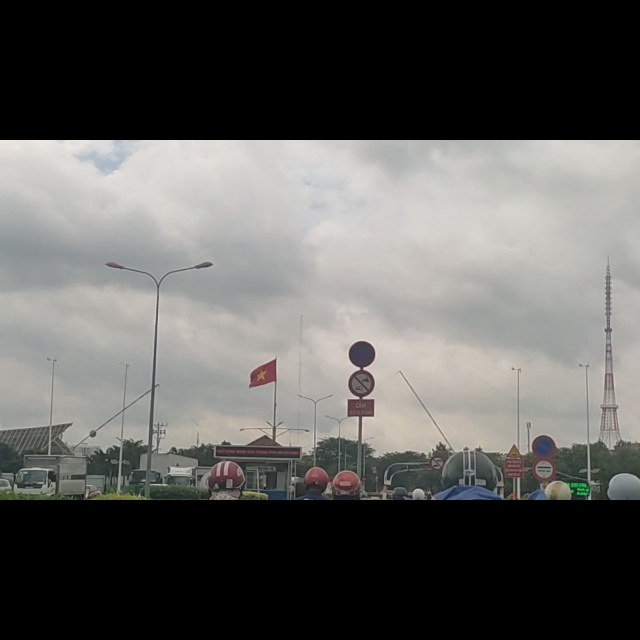bien_nguy_hiem: (349, 357, 376, 404), (349, 409, 375, 457), (532, 524, 556, 565), (533, 567, 556, 604), (506, 539, 524, 565), (429, 562, 445, 585)
